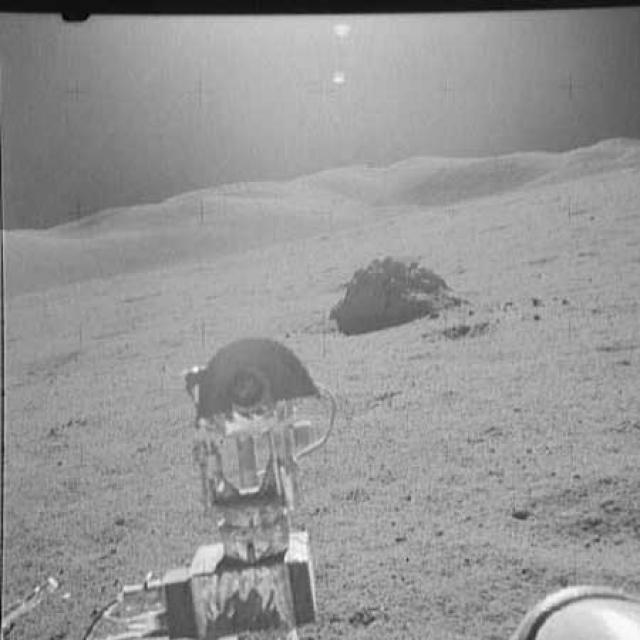artifact: (94, 334, 334, 639), (512, 576, 639, 639)
rock: (328, 250, 464, 335)
